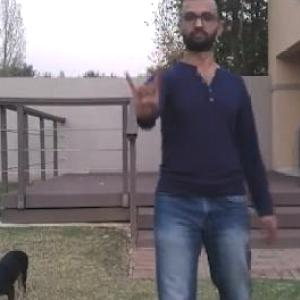takeoff-hand: (114, 56, 163, 125)
